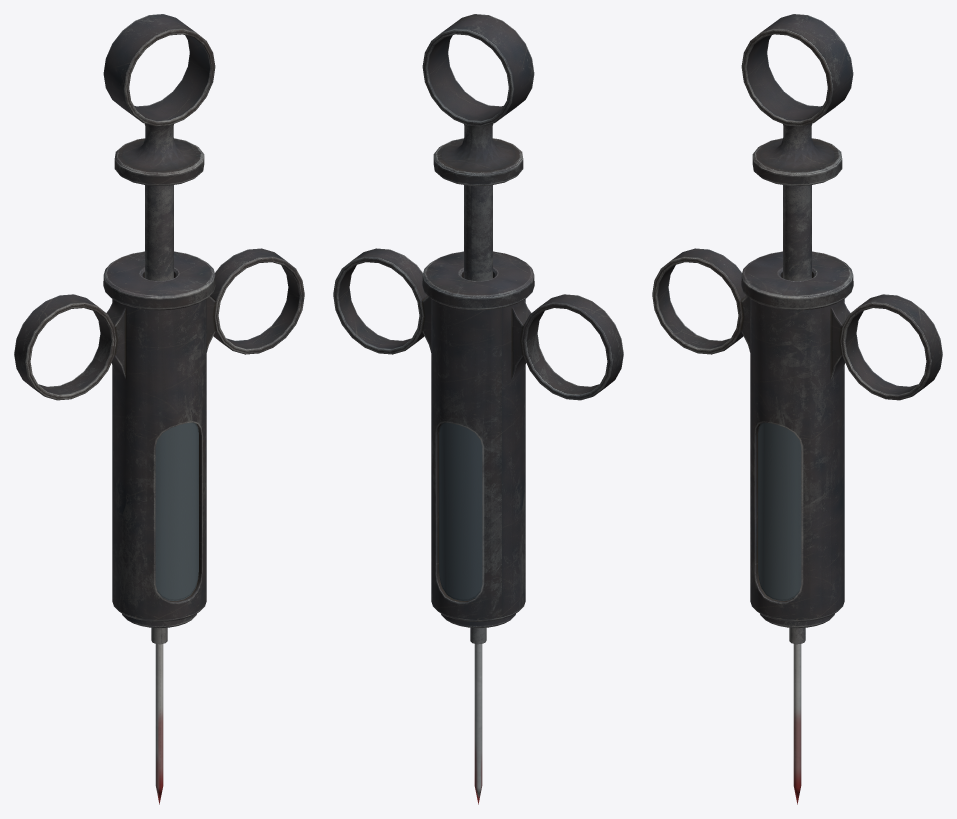
File: syringe.fbx
The picture shows the model from 3 angles, left to right: view 1: azimuth 30°, elevation 25°; view 2: azimuth 150°, elevation 25°; view 3: azimuth 330°, elevation 25°; orthographic projection.
Visible parts, largest first — view 1: base, pump; view 2: base, pump; view 3: base, pump.
Boxes of the visible parts, x1,y1,x2,y2 form: base: (14,248,304,804); pump: (103,14,215,281); base: (333,248,623,804); pump: (422,14,534,281); base: (652,248,942,804); pump: (741,14,853,281).
Bounding box in the file's own units: 8.6 × 23.04 × 3.
